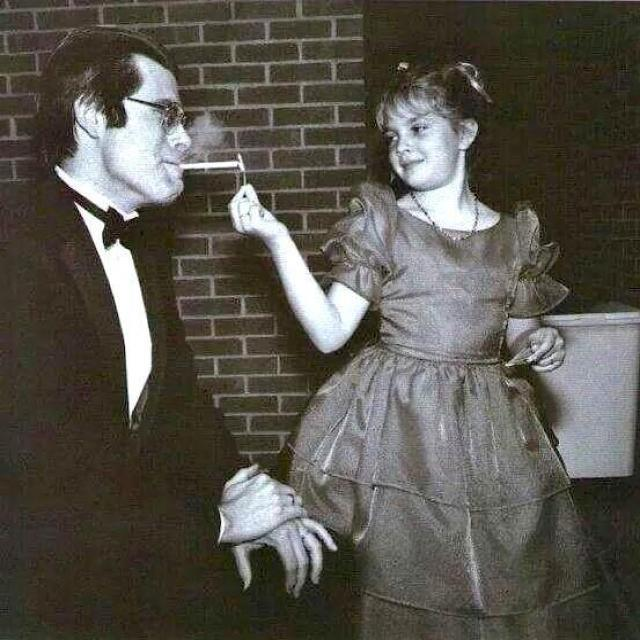smoking: (172, 148, 250, 183)
